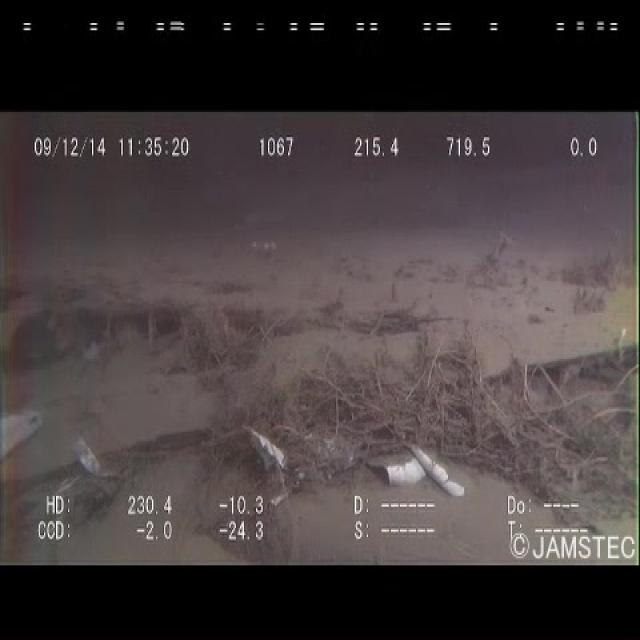plastic: (240, 418, 349, 501), (362, 434, 466, 501), (63, 427, 140, 492)
